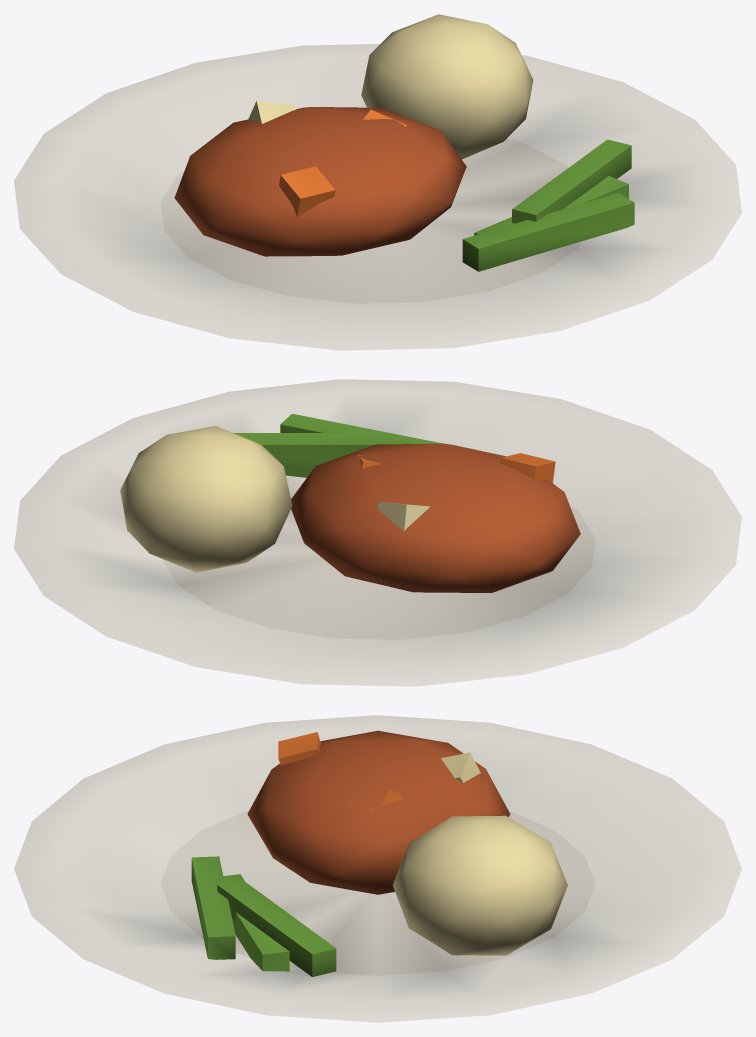
The model's file is mealPlate.glb.
The picture shows the model from 3 angles, top to bottom: view 1: azimuth 30°, elevation 25°; view 2: azimuth 150°, elevation 25°; view 3: azimuth 270°, elevation 25°; orthographic projection.
Visible parts, largest first — view 1: mealPlate; view 2: mealPlate; view 3: mealPlate.
Part boxes in pixels (bbox=[...]): mealPlate: bbox=[14, 14, 741, 350]; mealPlate: bbox=[14, 379, 741, 686]; mealPlate: bbox=[14, 715, 741, 1022].
Size of the model in its own units: 0.288 by 0.0614 by 0.288.
